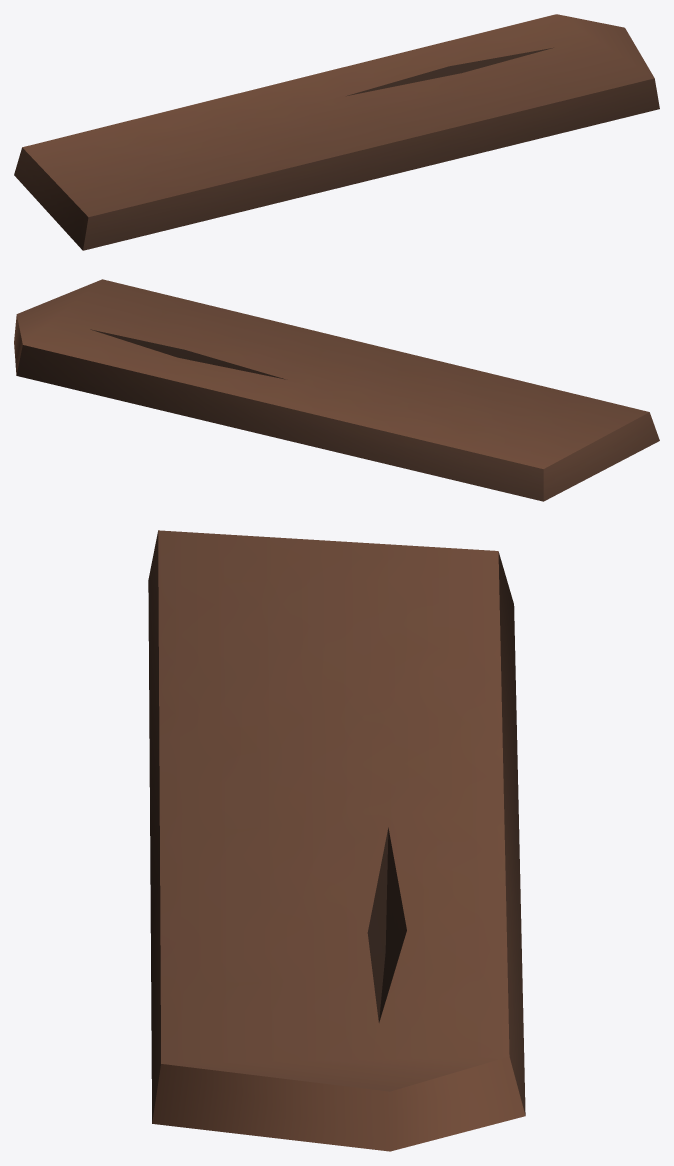
Rendered from Wooden_Plank_1C.fbx.
3 renders of one model, top to bottom at view 1: azimuth 30°, elevation 25°; view 2: azimuth 150°, elevation 25°; view 3: azimuth 270°, elevation 25°, orthographic. The views are drawn at different scales.
Parts seen in each view (by area): view 1: Wooden_Plank_1C; view 2: Wooden_Plank_1C; view 3: Wooden_Plank_1C.
Boxes of the visible parts, left/top/right/bottom form: Wooden_Plank_1C: left=14, top=14, right=659, bottom=250; Wooden_Plank_1C: left=14, top=279, right=659, bottom=501; Wooden_Plank_1C: left=148, top=530, right=525, bottom=1151.
Bounding box in the file's own units: 1.92 × 0.0897 × 0.5347.
